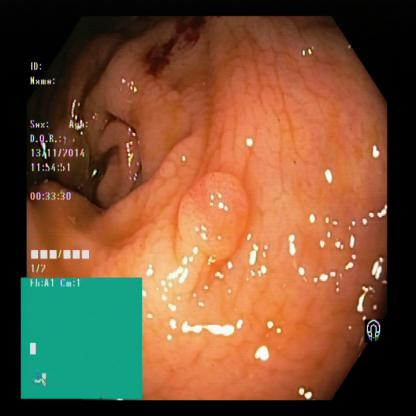Labels: (24, 58, 105, 276), (21, 276, 142, 399), (366, 311, 387, 340)
Polyps: (174, 169, 262, 276)
